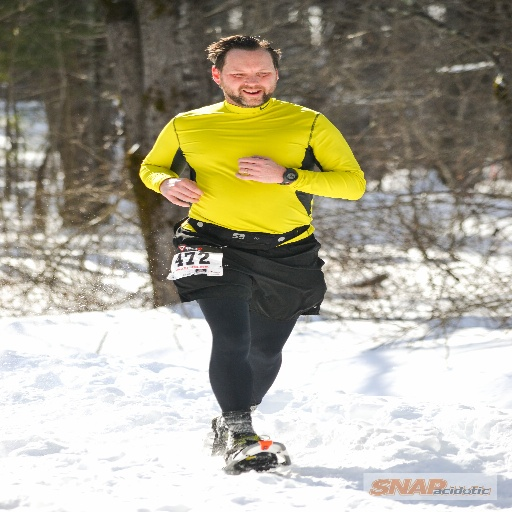hand: (153, 167, 204, 206), (232, 154, 287, 183)
